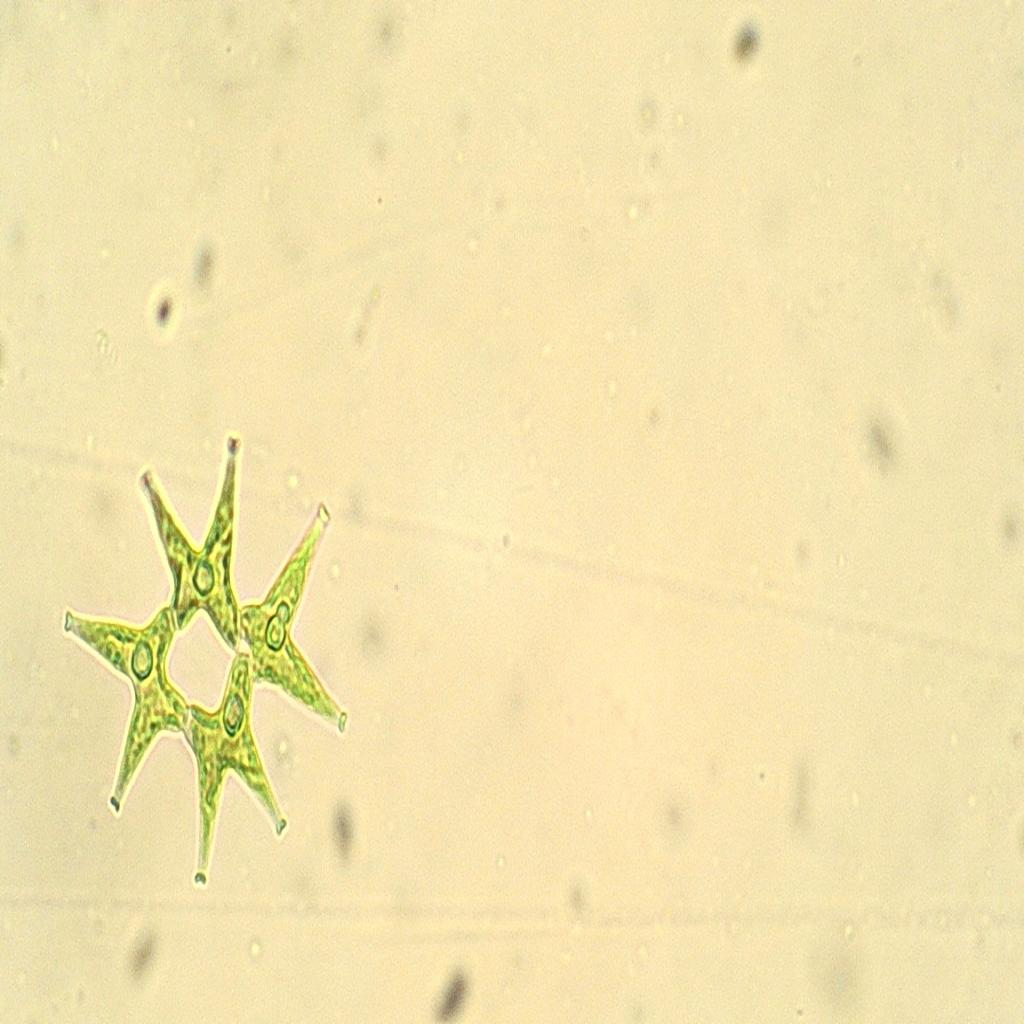Pediastrum_CT: (50, 418, 368, 916)
